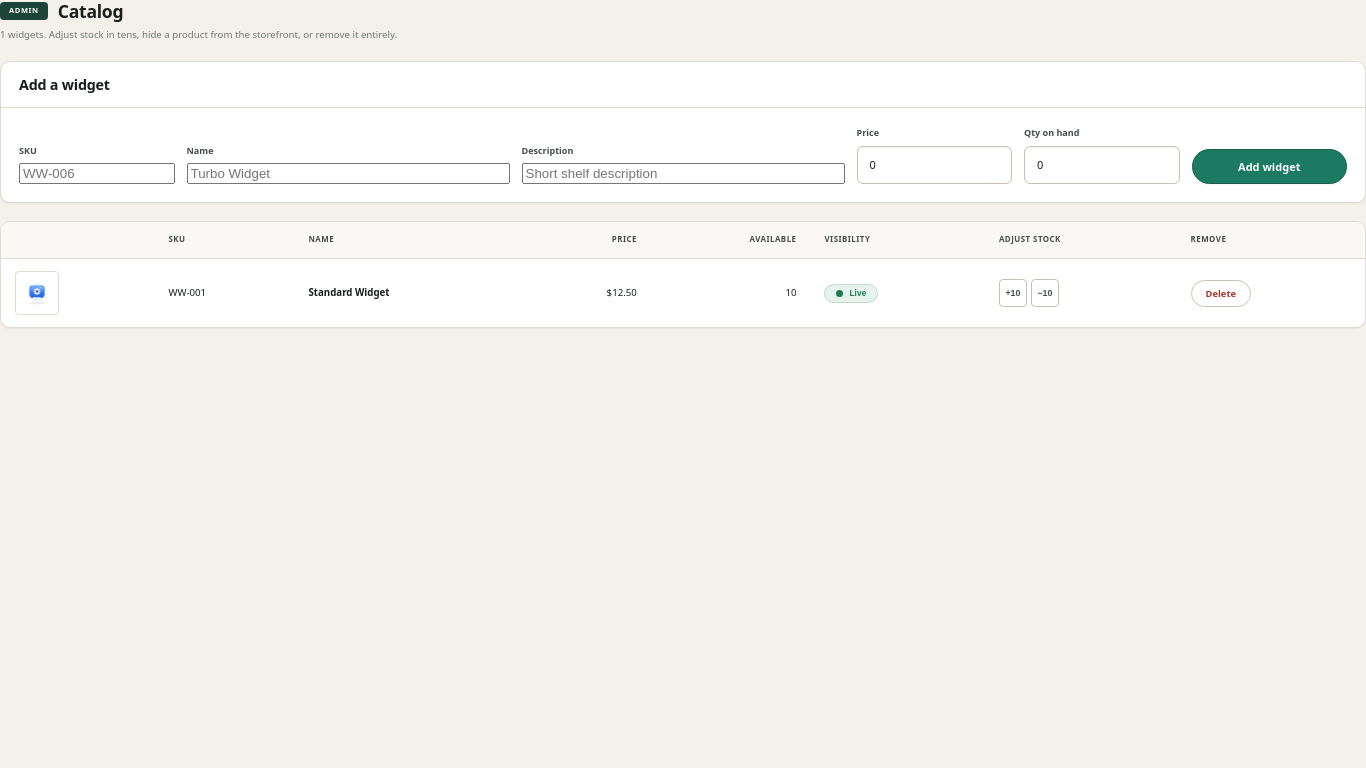
Test: AdminWidgetsPage › cancelling closes the dialog without touching the API
What coordinates should you click on to do the following:
click the button with aria-label "Delete Standard Widget"
I would click on:
 (1221, 293)
Its box is [1191, 280, 1251, 307].
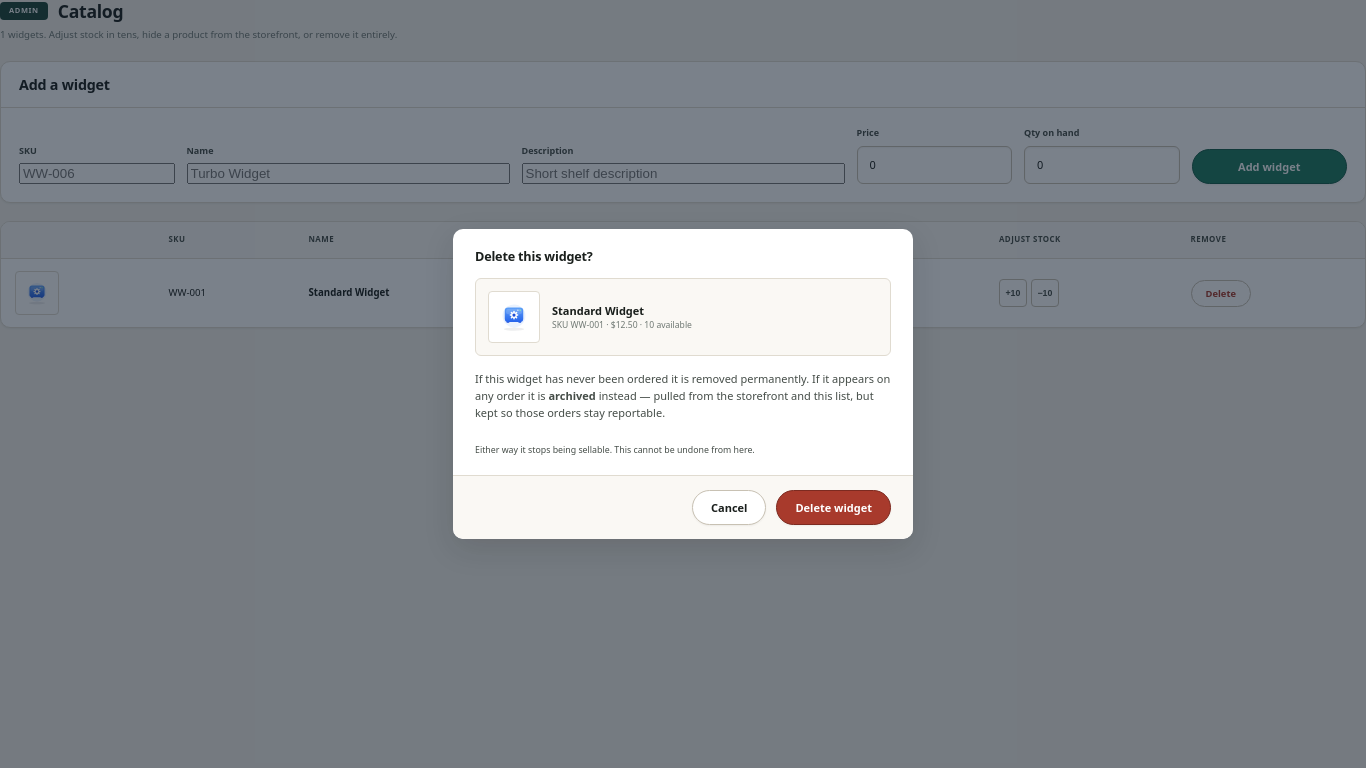
What coordinates should you click on to do the following:
click the button "Cancel"
I would click on:
 (729, 508)
Its box is [692, 490, 766, 525].
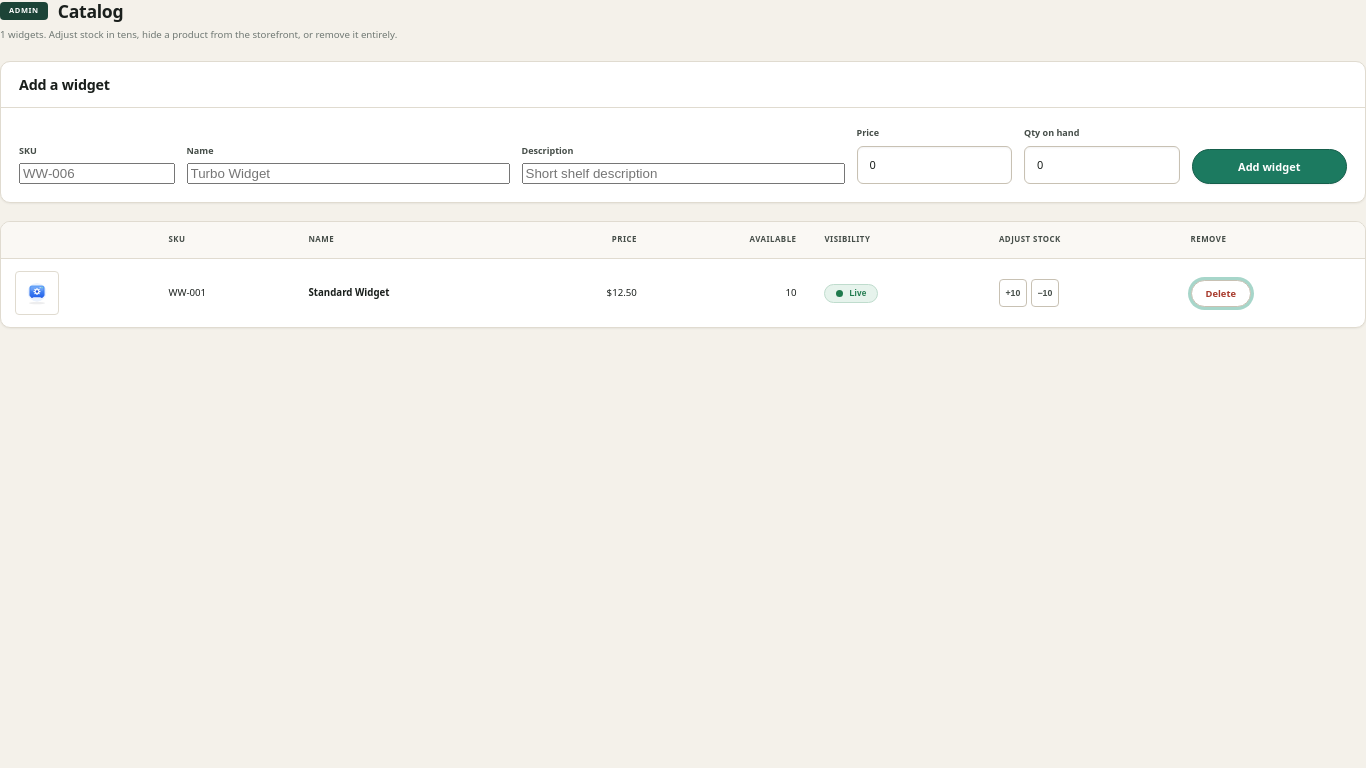
Expected: the text "Standard Widget" is shown, [294, 259, 527, 327]
Result: the heading "Delete this widget?" is gone
